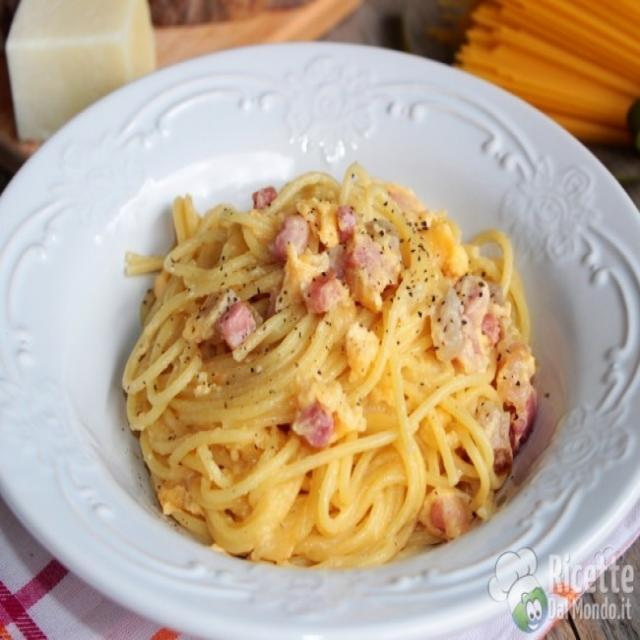Pasta with carbonara sauce: (80, 140, 600, 558)
